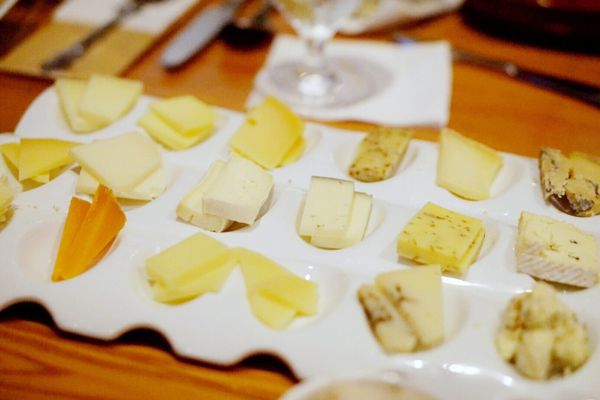curry: (1, 0, 600, 395)
sandwich: (246, 0, 374, 109)
sushi: (144, 231, 319, 333), (175, 154, 275, 233), (358, 264, 447, 352), (395, 200, 487, 278)
